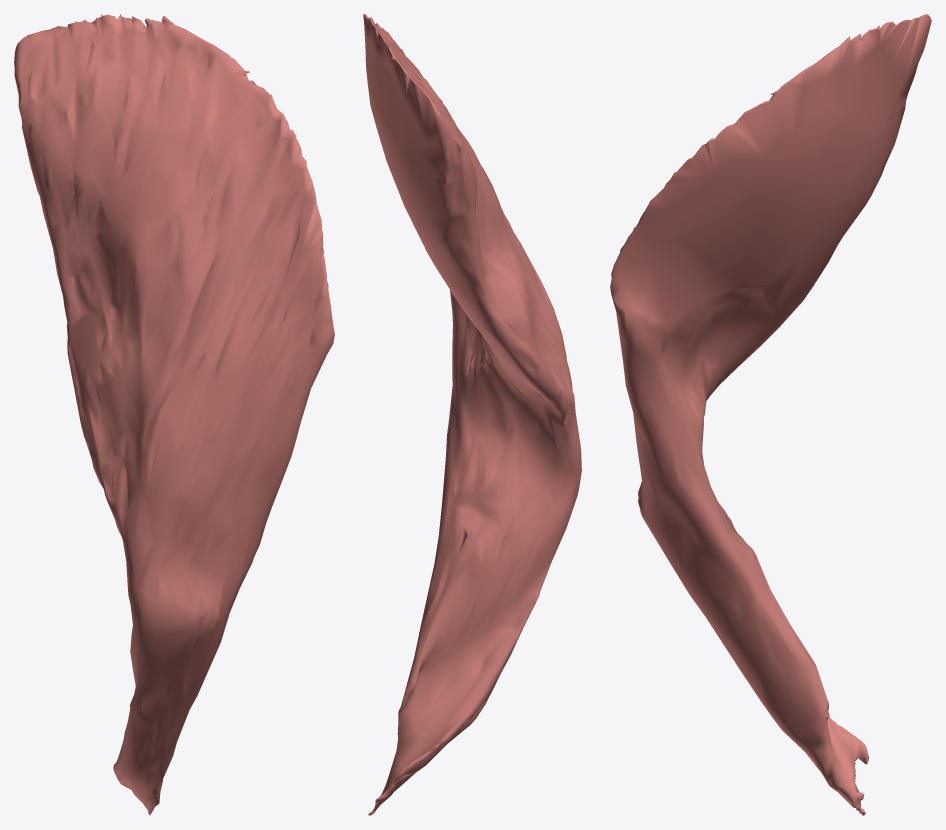
3 renders of one model, left to right at view 1: azimuth 30°, elevation 25°; view 2: azimuth 150°, elevation 25°; view 3: azimuth 270°, elevation 25°, orthographic. The views are drawn at different scales.
Visible parts, largest first — view 1: ZA_dcb37970a81f60dc; view 2: ZA_dcb37970a81f60dc; view 3: ZA_dcb37970a81f60dc.
Part boxes in pixels (x1,y1,x2,y2): ZA_dcb37970a81f60dc: (14,14,334,815); ZA_dcb37970a81f60dc: (363,14,581,815); ZA_dcb37970a81f60dc: (610,14,931,815).
Bounding box in the file's own units: 0.0561 × 0.2316 × 0.0862.
